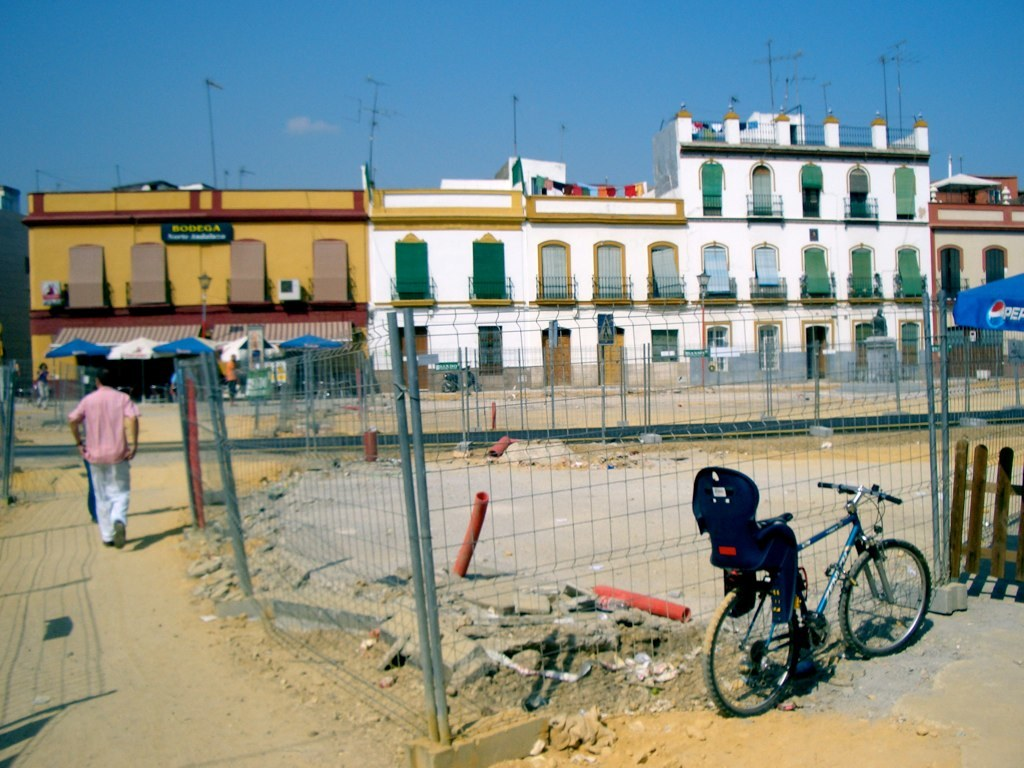Bicycle: (698, 478, 929, 712)
